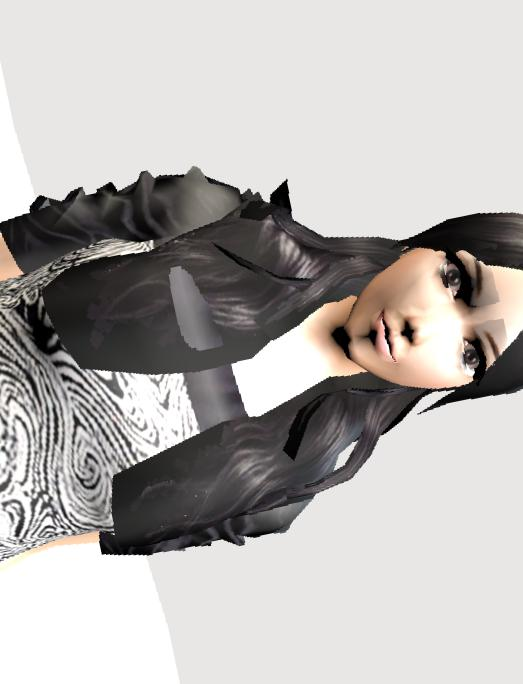clip: (157, 256, 222, 324)
